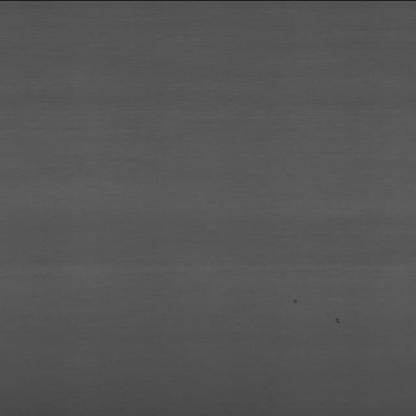inclusion: (289, 292, 314, 308), (334, 310, 356, 328)
